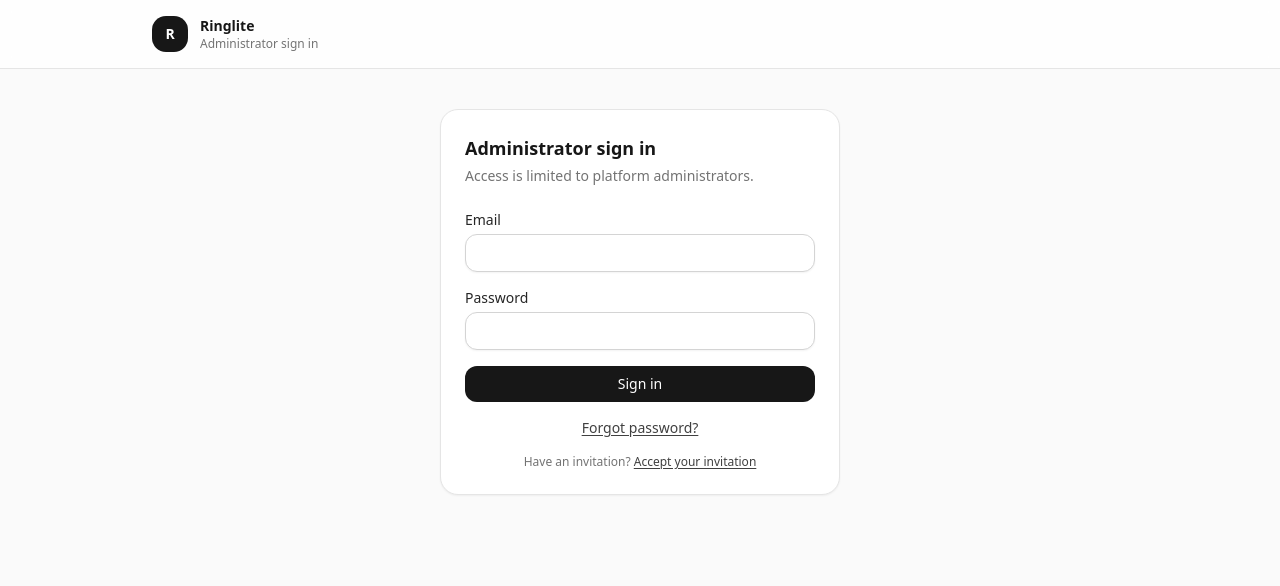
AdminLogin factor flows › does not admit on malformed requires_2fa response
Type "admin@example.com" into the field labelled "Email" at (640, 253), box [465,234,815,272]
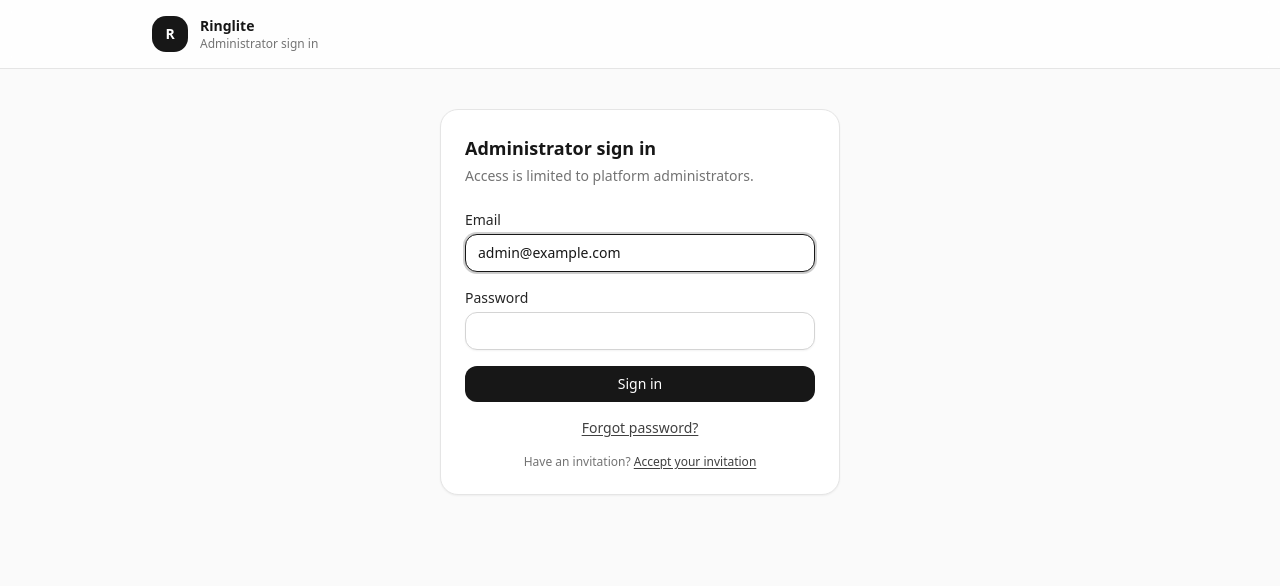
Type "hunter2hunter2" into the password field labelled "Password" at (640, 331), box [465,312,815,350]
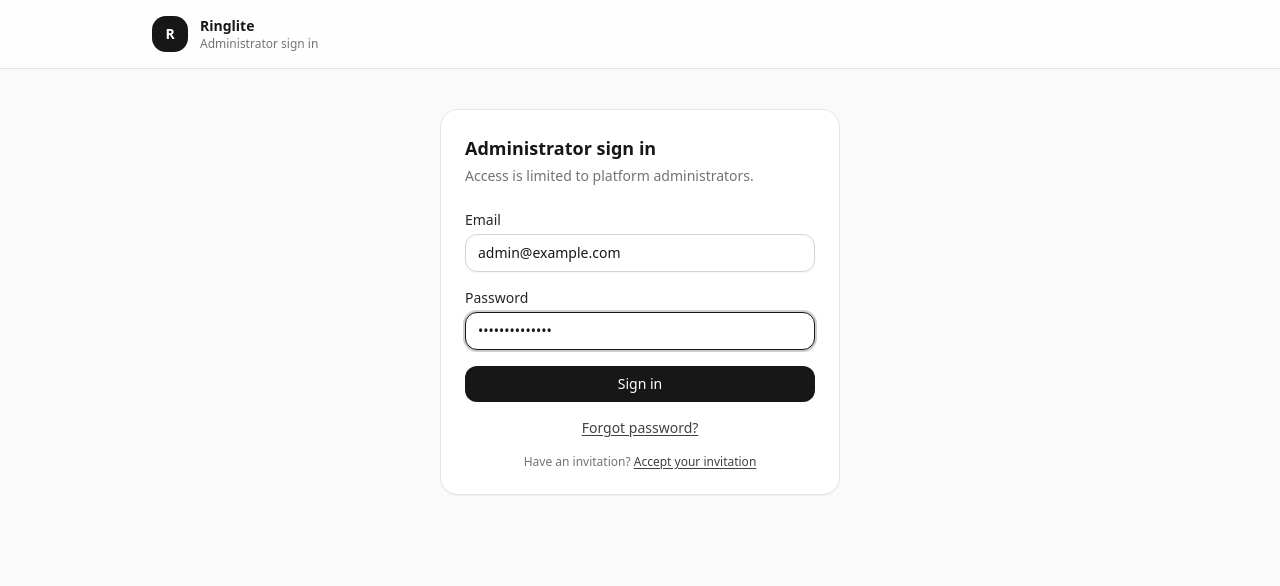
Click the button "Sign in" at (640, 384), box [465,366,815,402]
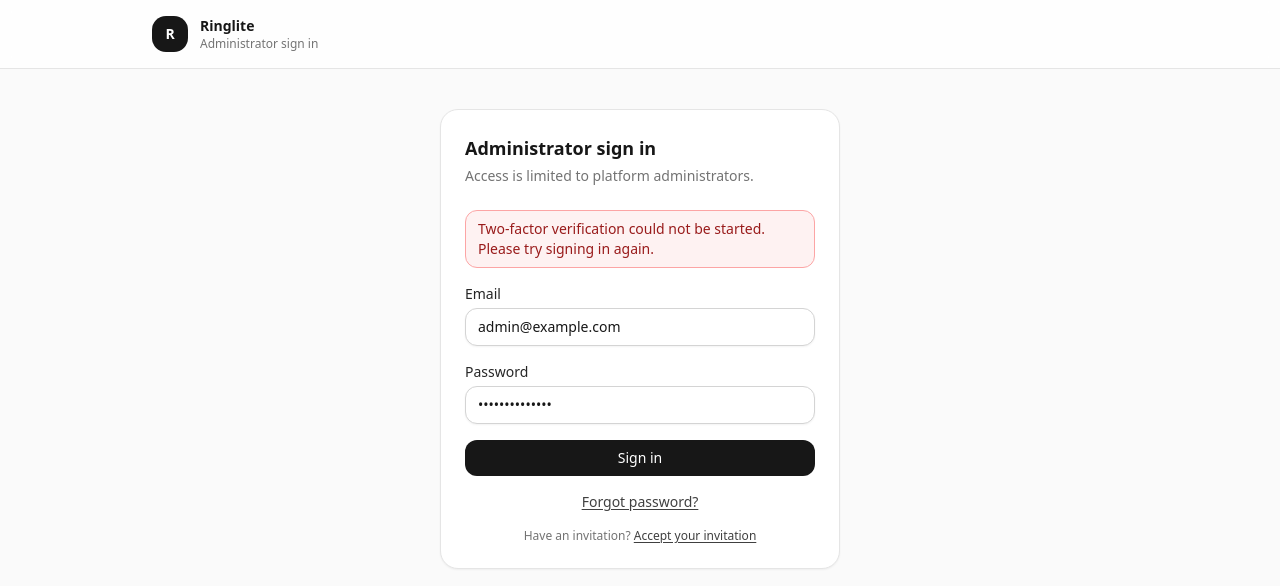
Now the message shows "could not be started", box [478,219,765,258]
